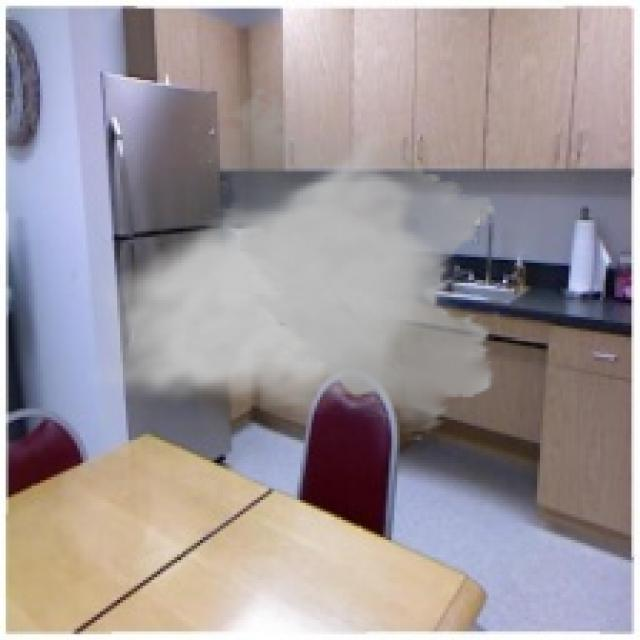Smoke: (86, 86, 506, 443)
